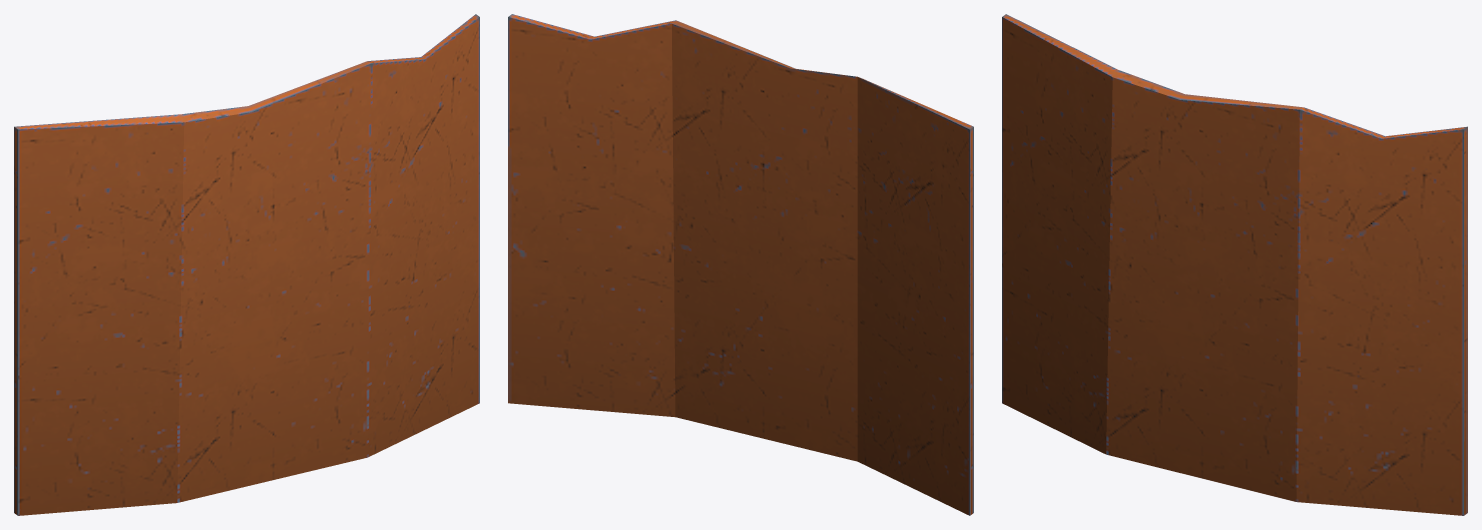
Rendered from Wall2.fbx.
3 renders of one model, left to right at view 1: azimuth 30°, elevation 25°; view 2: azimuth 150°, elevation 25°; view 3: azimuth 330°, elevation 25°, orthographic.
Parts seen in each view (by area): view 1: Wall2; view 2: Wall2; view 3: Wall2.
Boxes of the visible parts, <box> form: Wall2: <box>14,14,479,515</box>; Wall2: <box>508,14,973,515</box>; Wall2: <box>1002,14,1467,515</box>.
Size of the model in its own units: 6 by 4.88 by 0.7148.
